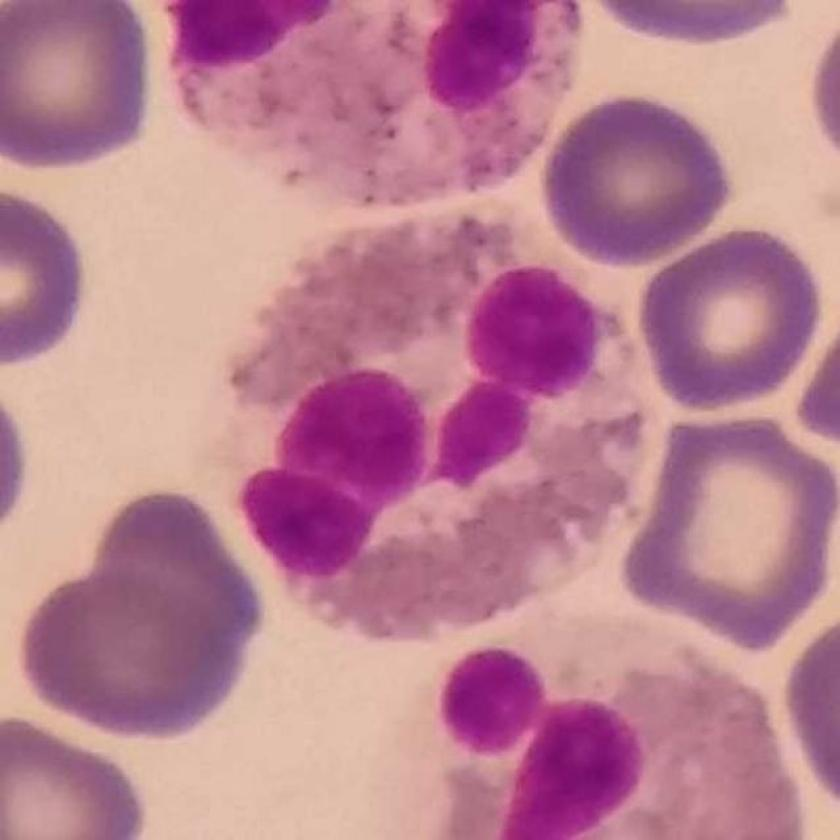eosinophil: (187, 198, 656, 645), (346, 615, 799, 840), (162, 1, 593, 206)
